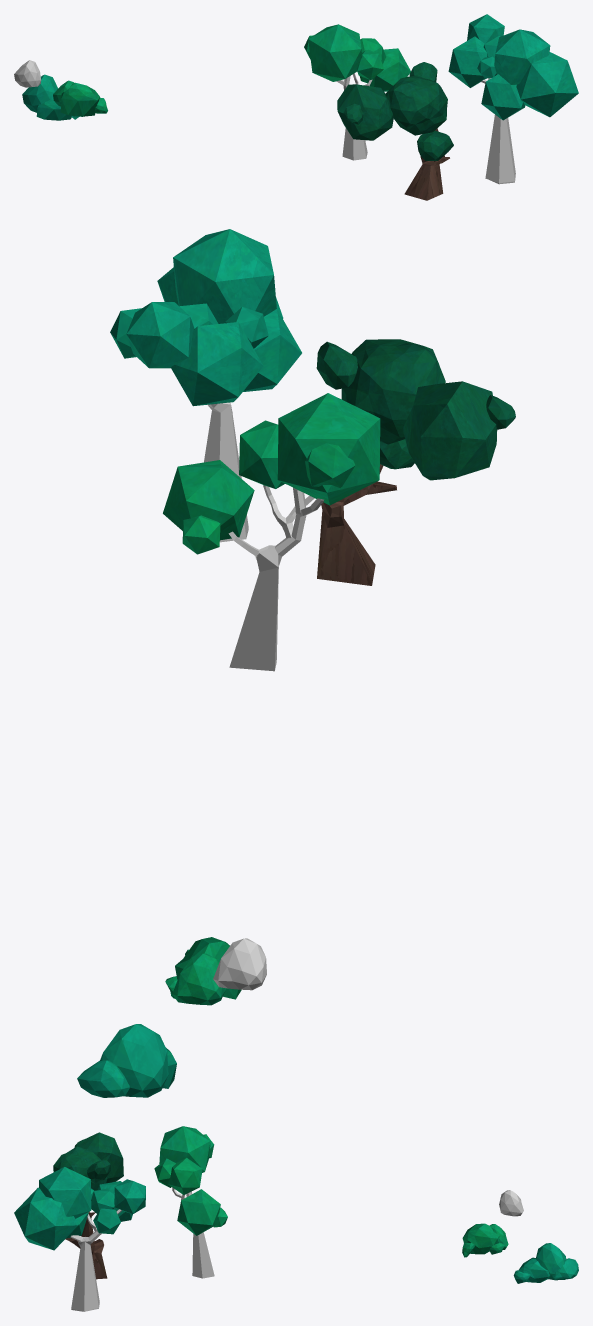
File: arbol.fbx
3 renders of one model, top to bottom at view 1: azimuth 30°, elevation 25°; view 2: azimuth 150°, elevation 25°; view 3: azimuth 270°, elevation 25°, orthographic. The views are drawn at different scales.
Visible parts, largest first — view 1: polySurface23, polySurface15, pasted__group1, pasted__Bush9, pasted__Bush13, pasted__Bush4; view 2: polySurface23, pasted__group1, polySurface15, pasted__Bush13, pasted__Bush9, pasted__Bush4; view 3: polySurface23, pasted__group1, polySurface15, pasted__Bush13, pasted__Bush9, pasted__Bush4.
Part boxes in pixels (left/top/right/bottom): polySurface23: left=448, top=14, right=578, bottom=184; polySurface15: left=337, top=62, right=453, bottom=200; pasted__group1: left=304, top=24, right=410, bottom=160; pasted__Bush9: left=53, top=80, right=107, bottom=116; pasted__Bush13: left=22, top=74, right=82, bottom=120; pasted__Bush4: left=14, top=60, right=41, bottom=87; polySurface23: left=110, top=229, right=301, bottom=542; pasted__group1: left=163, top=393, right=380, bottom=671; polySurface15: left=316, top=339, right=515, bottom=585; pasted__Bush13: left=77, top=1024, right=176, bottom=1097; pasted__Bush9: left=165, top=937, right=241, bottom=1005; pasted__Bush4: left=213, top=938, right=266, bottom=990; polySurface23: left=14, top=1167, right=145, bottom=1311; pasted__group1: left=154, top=1126, right=227, bottom=1278; polySurface15: left=53, top=1132, right=123, bottom=1279; pasted__Bush13: left=513, top=1243, right=578, bottom=1283; pasted__Bush9: left=462, top=1223, right=508, bottom=1257; pasted__Bush4: left=499, top=1190, right=523, bottom=1216.
Size of the model in its own units: 34.59 by 24.12 by 60.
